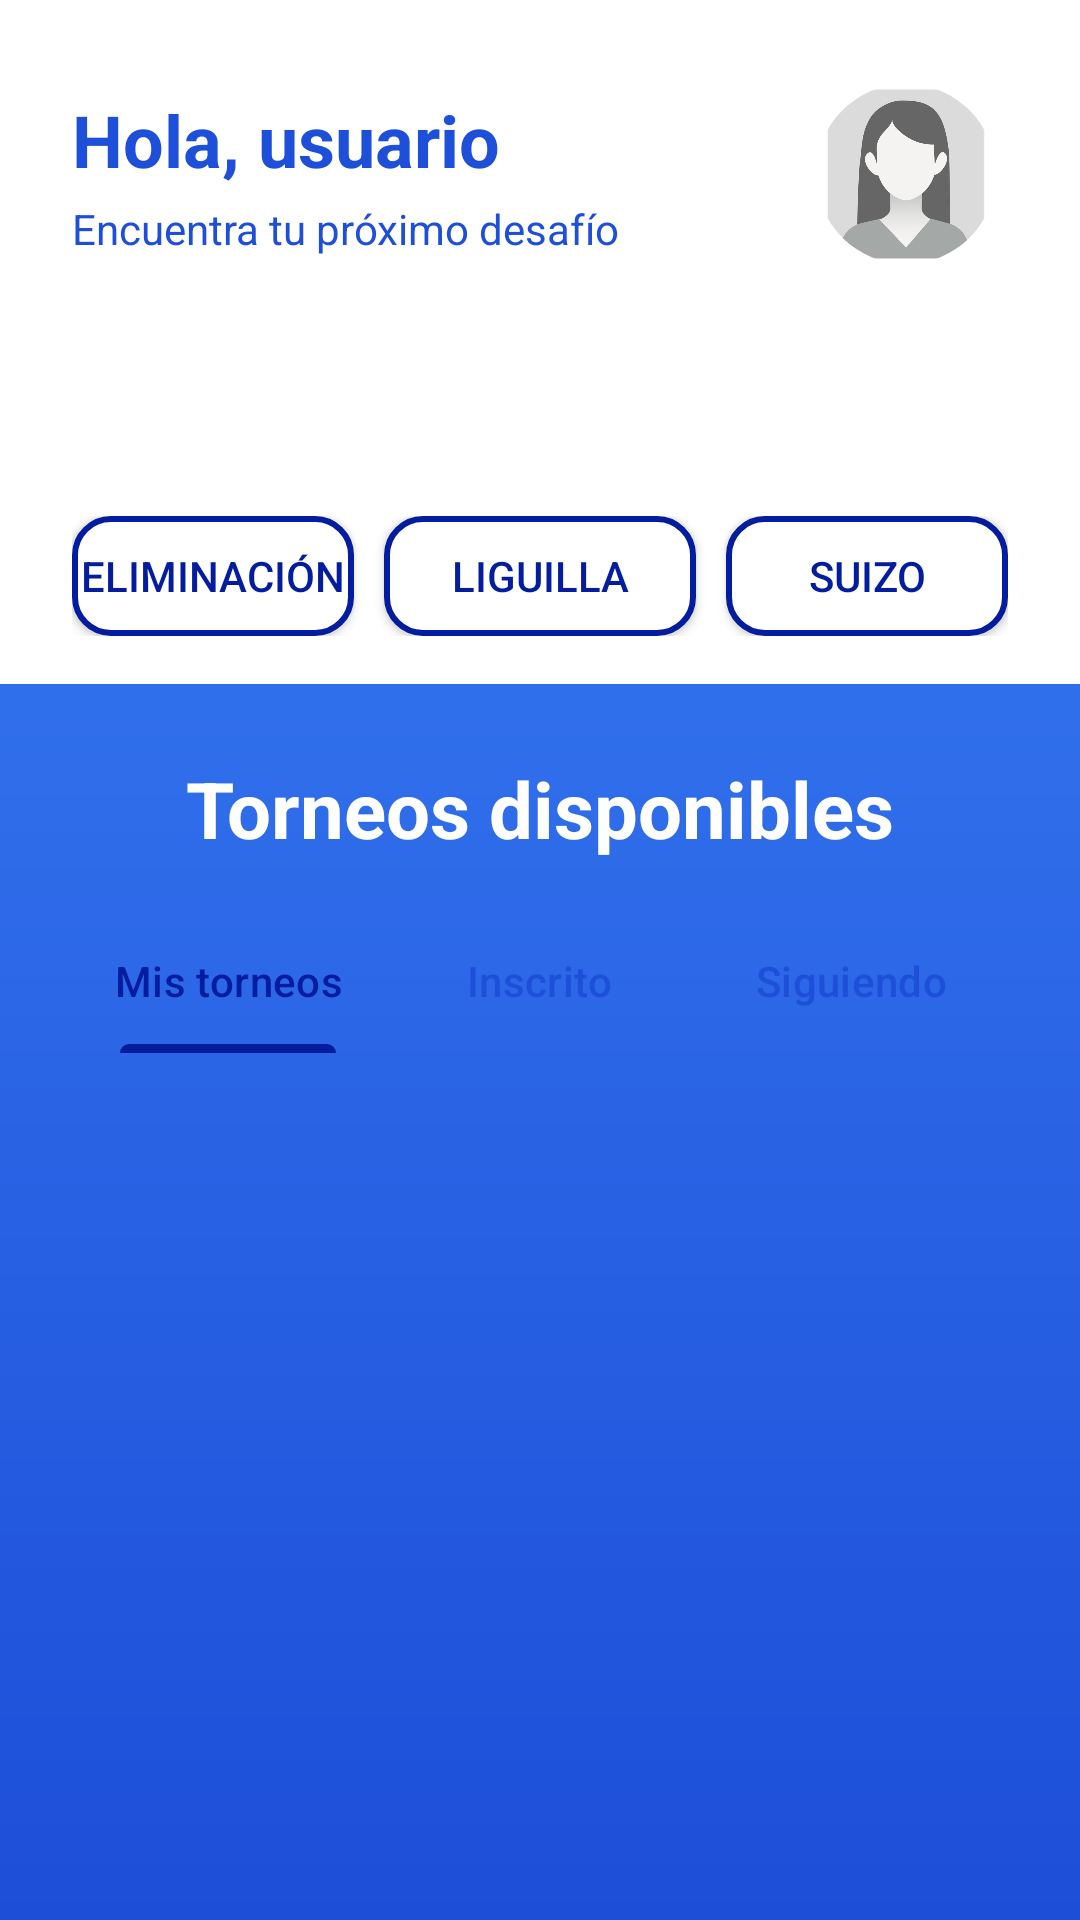

Screen size 1080px x 1920px. Icon name, then its center in pixels as (x,y):
user pfp: (906,174)
